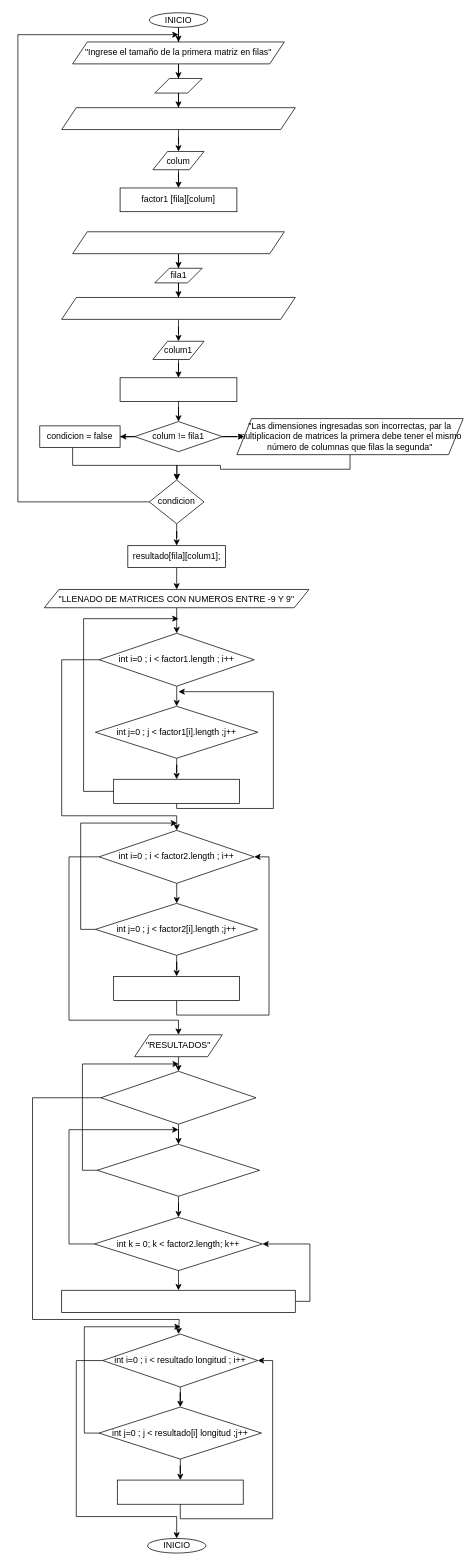
Some shapes in this 476 by 1566 pixel diagram are drawn without their labels. The box of each missing label's shape, as (x1, y1, x2, y2) in pixels:
" ["+ resultado[i][j]+"] ": (117, 1479, 243, 1504)
"Ingrese el tamaño de la primera matriz en columnas": (61, 107, 295, 130)
"Ingrese el tamaño de la segunda matriz en columnas": (61, 297, 295, 319)
"Ingrese el tamaño de la segunda matriz en filas": (72, 231, 284, 254)
factor1[i][j] = aleatorio (19) - 9;: (113, 779, 240, 803)
factor2 [fila][colum]: (119, 377, 237, 402)
factor2[i][j] = aleatorio (19) - 9;: (113, 976, 240, 1001)
fila: (154, 78, 202, 93)
int i = 0; i < factor1.length; i++: (100, 1071, 256, 1124)
int j = 0; j < factor2[i] longitud; j++: (97, 1144, 260, 1196)
resultado[i][j] =resultado[i][j] + (factor1[i][k] * factor2[k][j]);: (61, 1290, 295, 1312)
